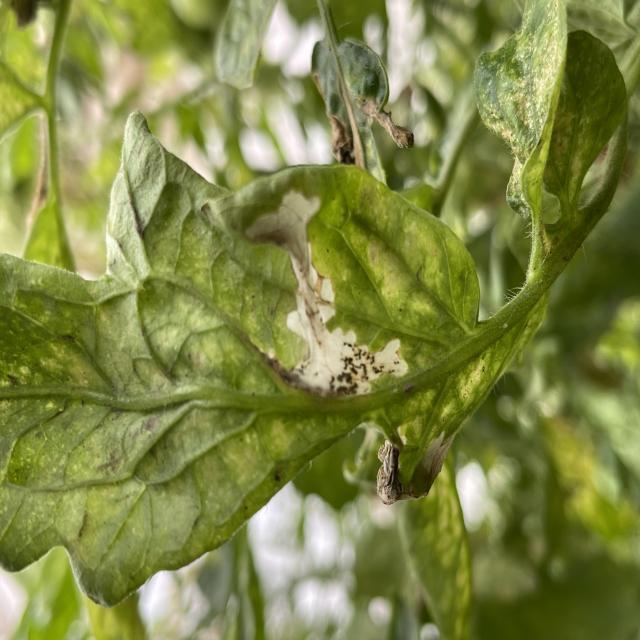Tuta absoluta: (212, 181, 414, 422)
